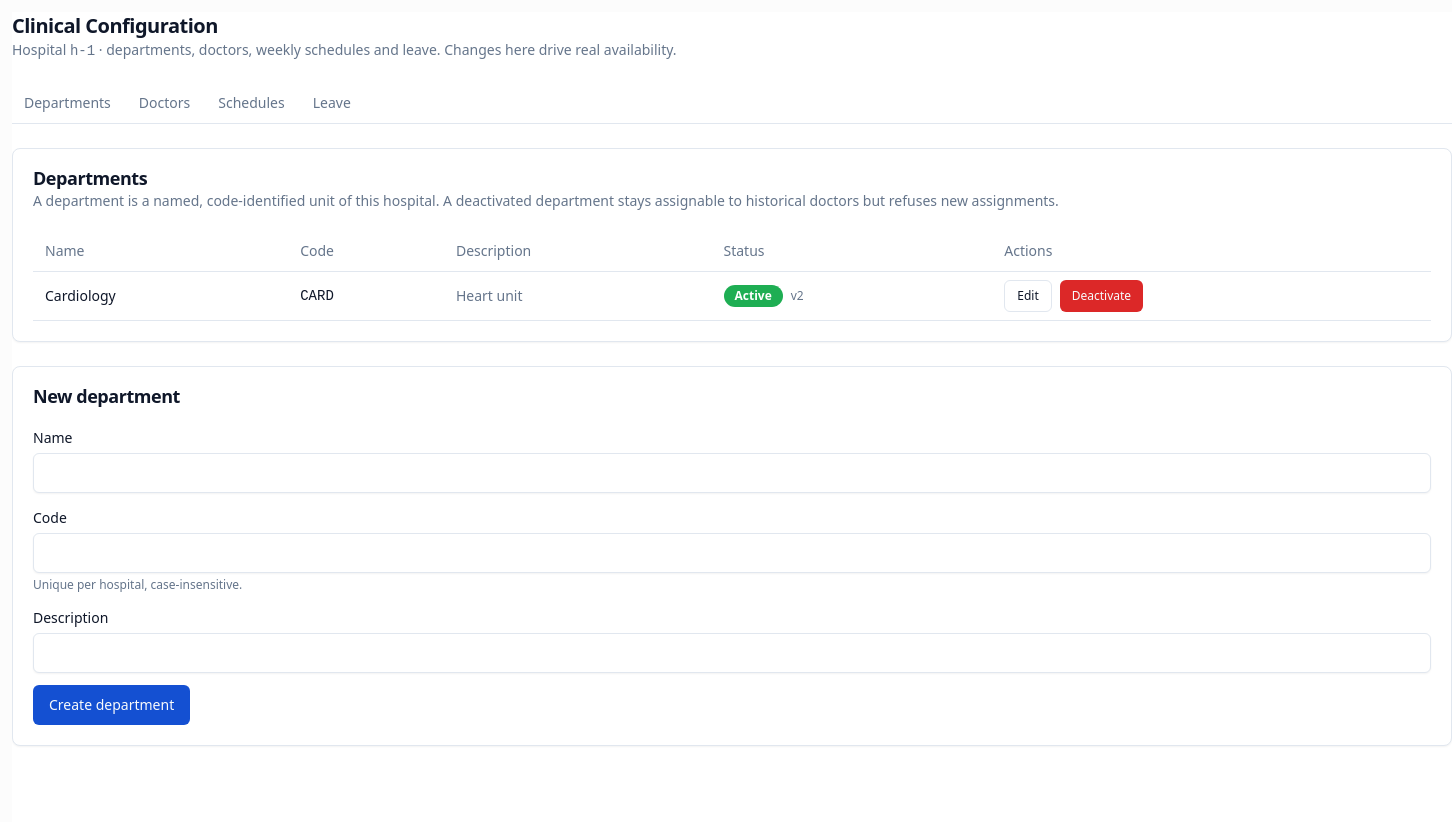
Test: creates a department with trimmed values and a required idempotency key
The width and height of the screenshot is (1452, 822).
Expected: the text "Cardiology" is shown, [33, 271, 288, 320]
Step 1. Type "  Neurology  " into the field labelled "Name" → (732, 472), box [33, 452, 1431, 492]
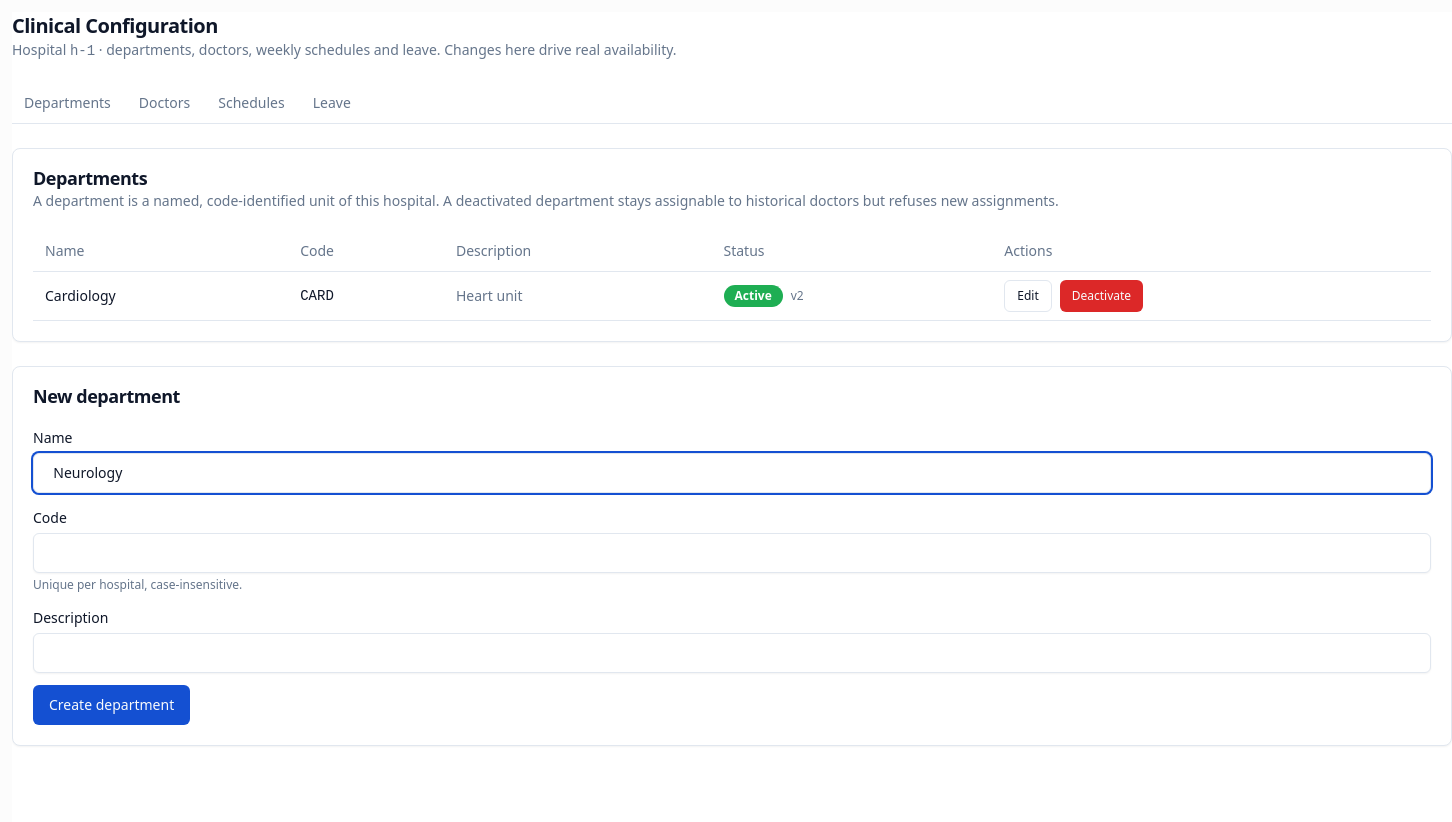
Step 2. Type " NEURO " into the field labelled "Code" → (732, 552), box [33, 532, 1431, 572]
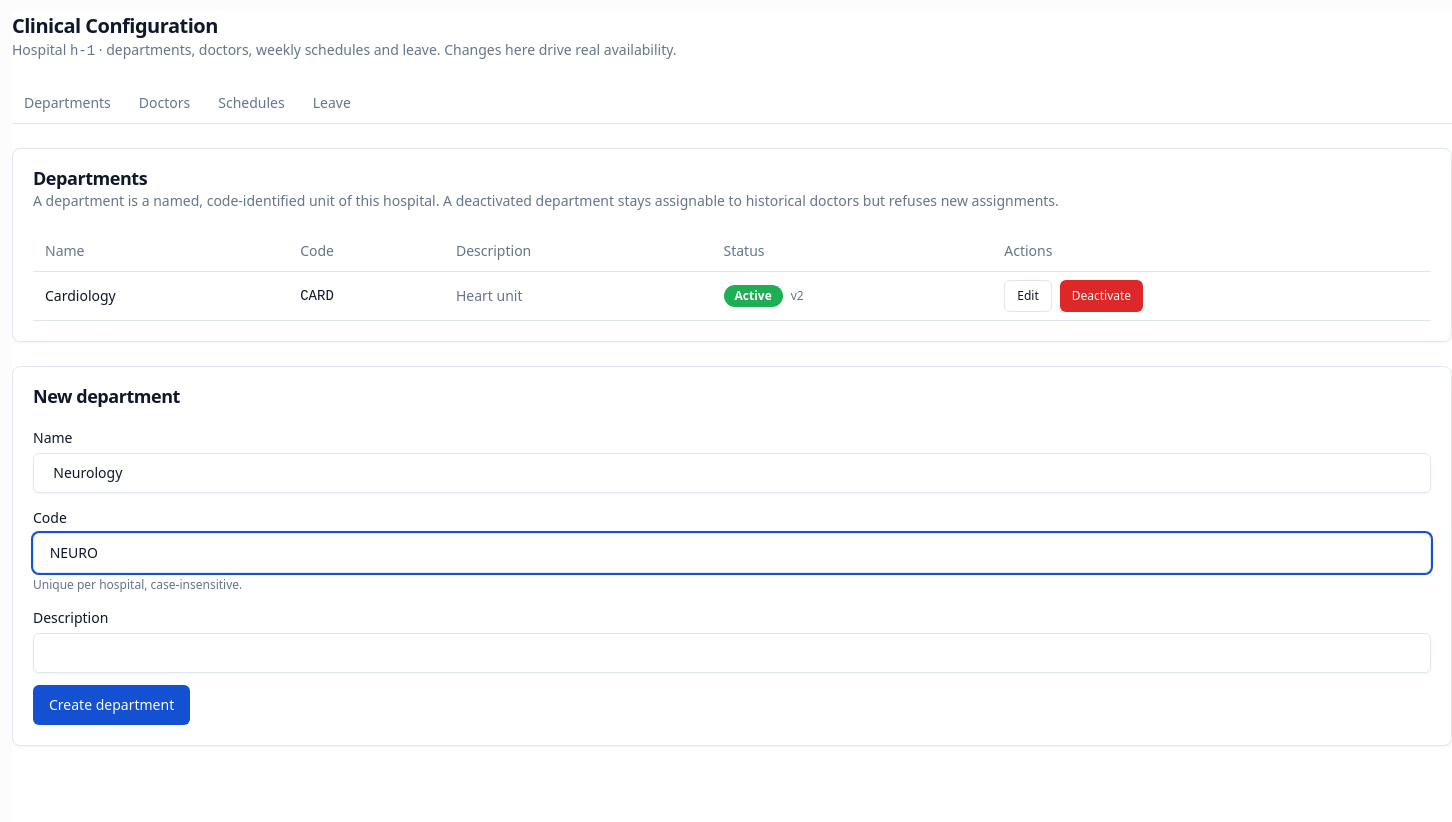
Step 3. Click the button with test id "cc-dept-create" → (112, 704), box [33, 684, 190, 724]
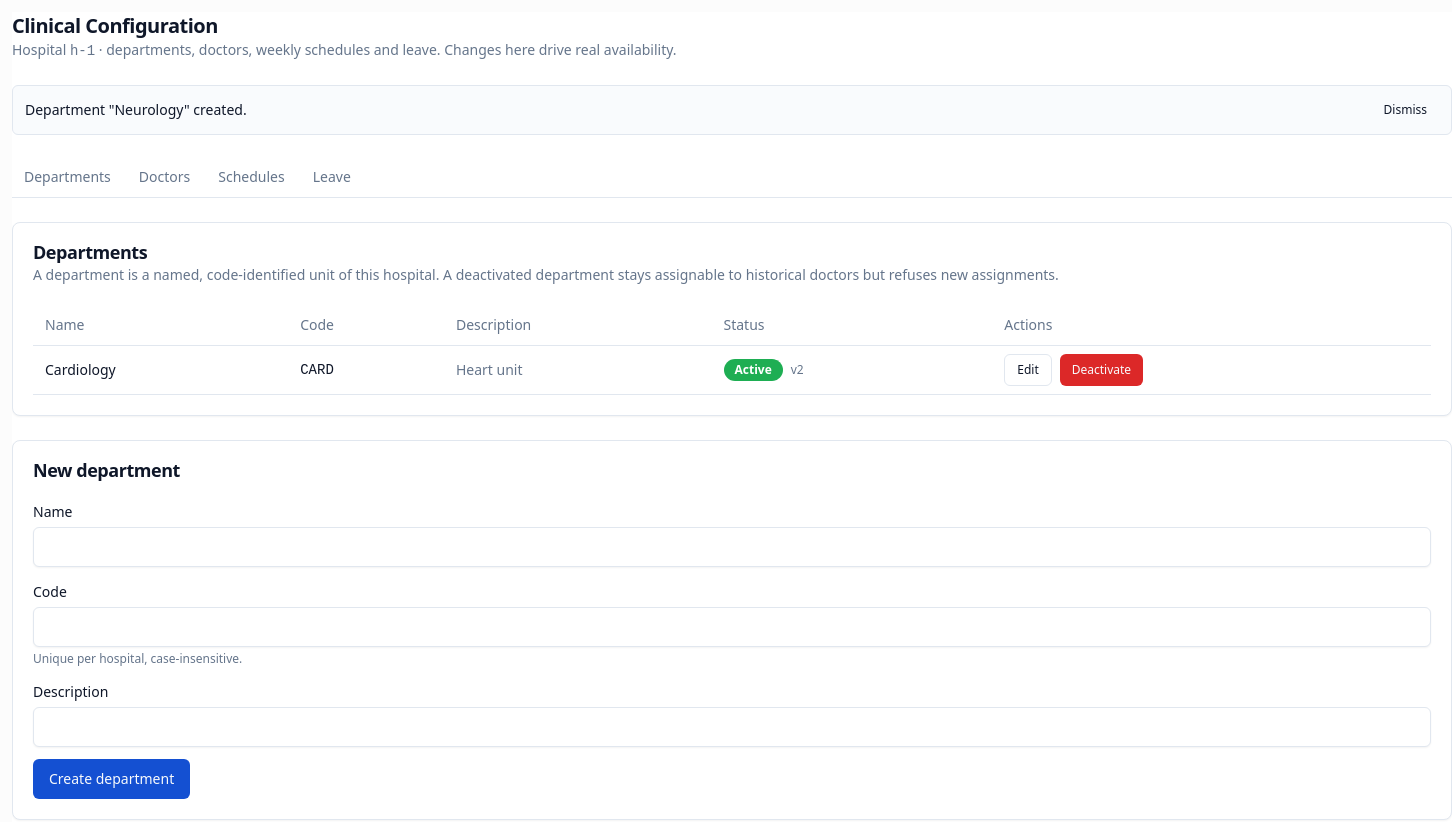
Expected: the text "h-1" is shown, [70, 43, 95, 59]
Now the message "Department \"Neurology\" created. Dismiss" is shown, box [12, 85, 1451, 135]
